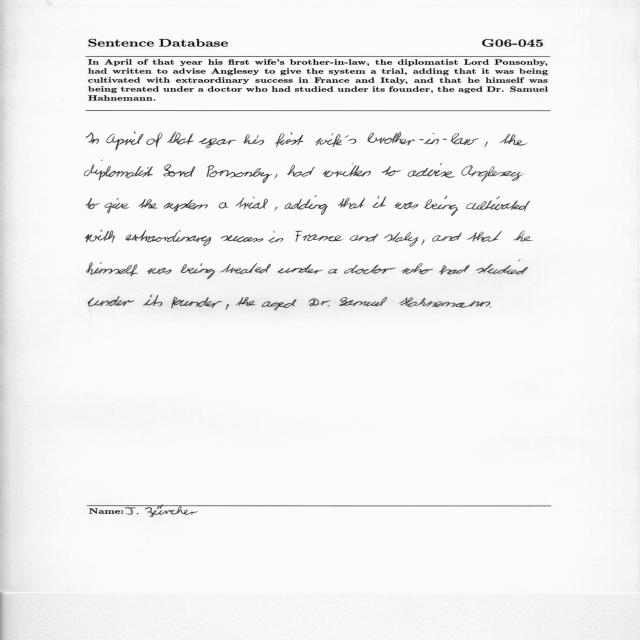word: (368, 132, 479, 145), (84, 160, 153, 180), (125, 230, 211, 246), (207, 165, 272, 183), (399, 297, 490, 308), (462, 166, 524, 182), (466, 196, 530, 211), (285, 196, 328, 215), (476, 260, 528, 275), (87, 262, 138, 277), (408, 163, 455, 178), (424, 196, 459, 216), (322, 163, 371, 177), (106, 132, 144, 150), (315, 133, 356, 147), (220, 263, 271, 274), (171, 297, 222, 308), (180, 263, 214, 279), (163, 200, 208, 212), (296, 231, 344, 242), (384, 232, 419, 247), (344, 264, 396, 274), (277, 264, 323, 274), (88, 296, 134, 306), (339, 297, 387, 306), (235, 196, 268, 209), (275, 132, 303, 147), (163, 164, 195, 177), (104, 198, 130, 213), (467, 231, 502, 242), (198, 138, 236, 148), (262, 299, 296, 310), (401, 263, 434, 274), (85, 230, 115, 242), (167, 132, 194, 145), (500, 134, 528, 146), (287, 165, 315, 177), (338, 198, 365, 209), (221, 235, 263, 242), (439, 265, 470, 274), (432, 233, 462, 242), (147, 133, 163, 148), (350, 234, 378, 242), (513, 231, 533, 242), (143, 295, 162, 306), (244, 135, 264, 145), (382, 166, 401, 176), (309, 298, 330, 307), (268, 231, 283, 243), (139, 199, 158, 208), (236, 297, 255, 306), (373, 196, 387, 208), (394, 202, 418, 209), (86, 132, 99, 144), (86, 198, 100, 209), (147, 268, 172, 274), (219, 203, 228, 209), (328, 269, 337, 274), (484, 142, 488, 148), (421, 240, 425, 246), (274, 174, 278, 179), (226, 304, 229, 310), (275, 207, 278, 211), (490, 307, 491, 308)
